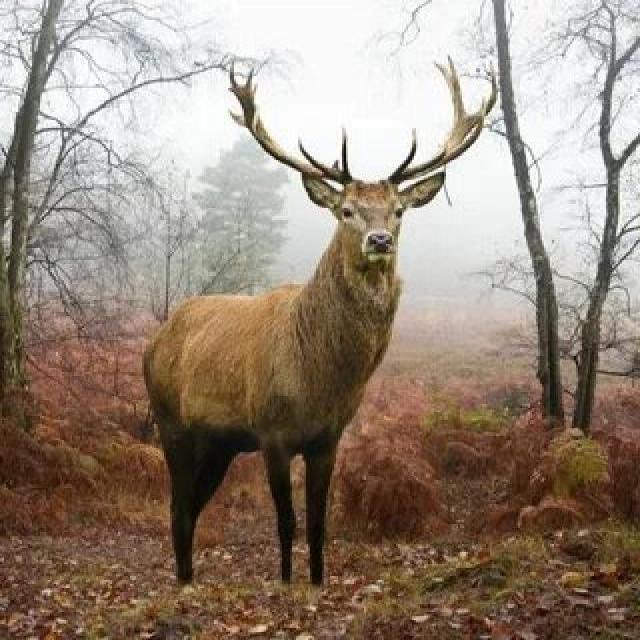deer: (91, 71, 488, 582)
